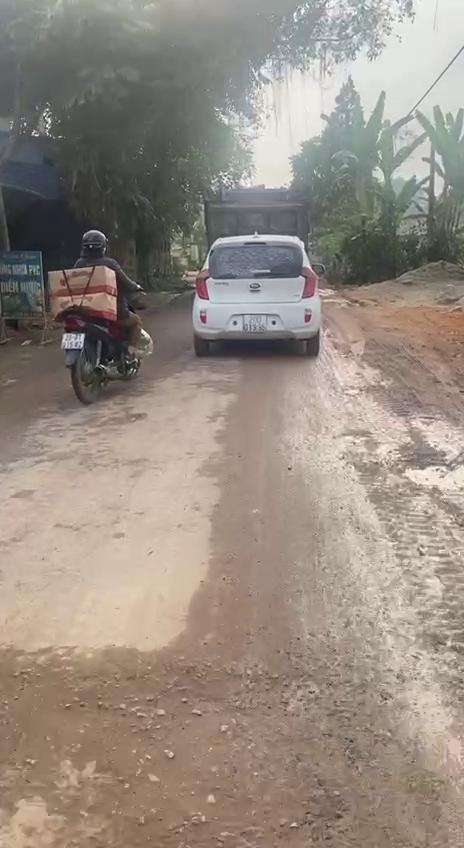pothole: (0, 654, 344, 848), (405, 455, 464, 498)
